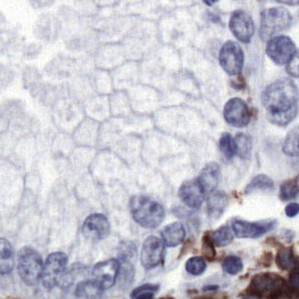Lymphocyte: (199, 234, 219, 261)
